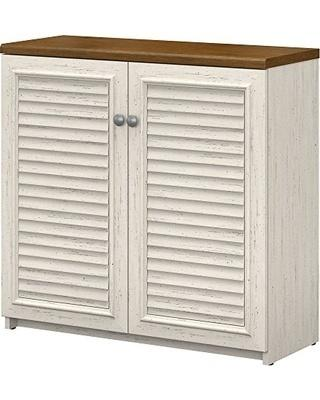cabinet_door: (127, 65, 268, 345), (0, 59, 125, 329)
handle: (113, 110, 126, 133), (126, 112, 138, 133)
